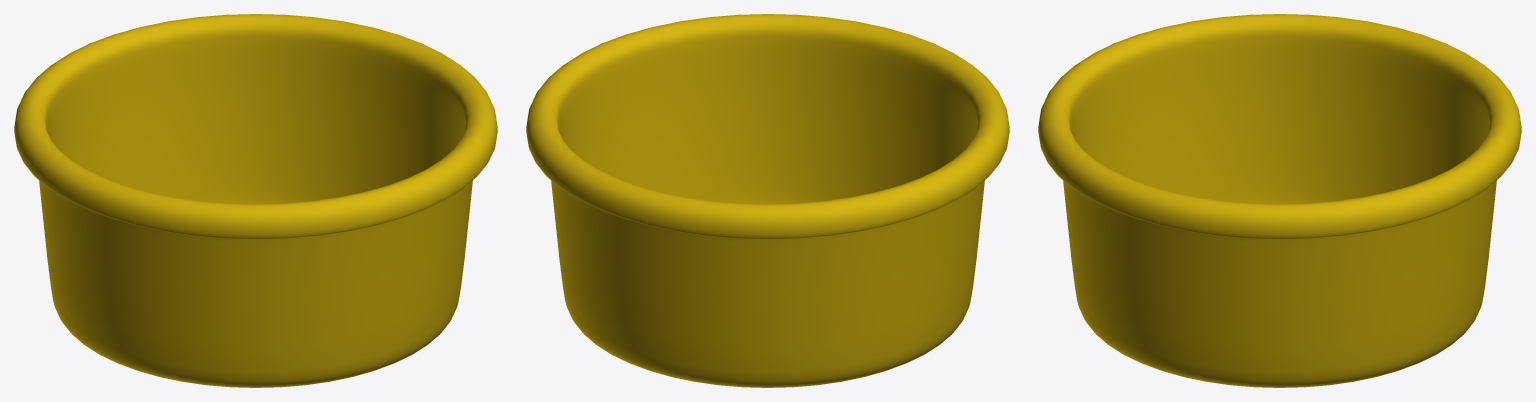
File: candidate.glb
The picture shows the model from 3 angles, left to right: view 1: azimuth 30°, elevation 25°; view 2: azimuth 150°, elevation 25°; view 3: azimuth 270°, elevation 25°; orthographic projection.
Parts seen in each view (by area): view 1: wash_basin; view 2: wash_basin; view 3: wash_basin.
Part boxes in pixels (<box>): wash_basin: <box>14,14,497,387</box>; wash_basin: <box>526,14,1009,387</box>; wash_basin: <box>1038,14,1521,387</box>.
Bounding box in the file's own units: 0.2 × 0.0913 × 0.2.
